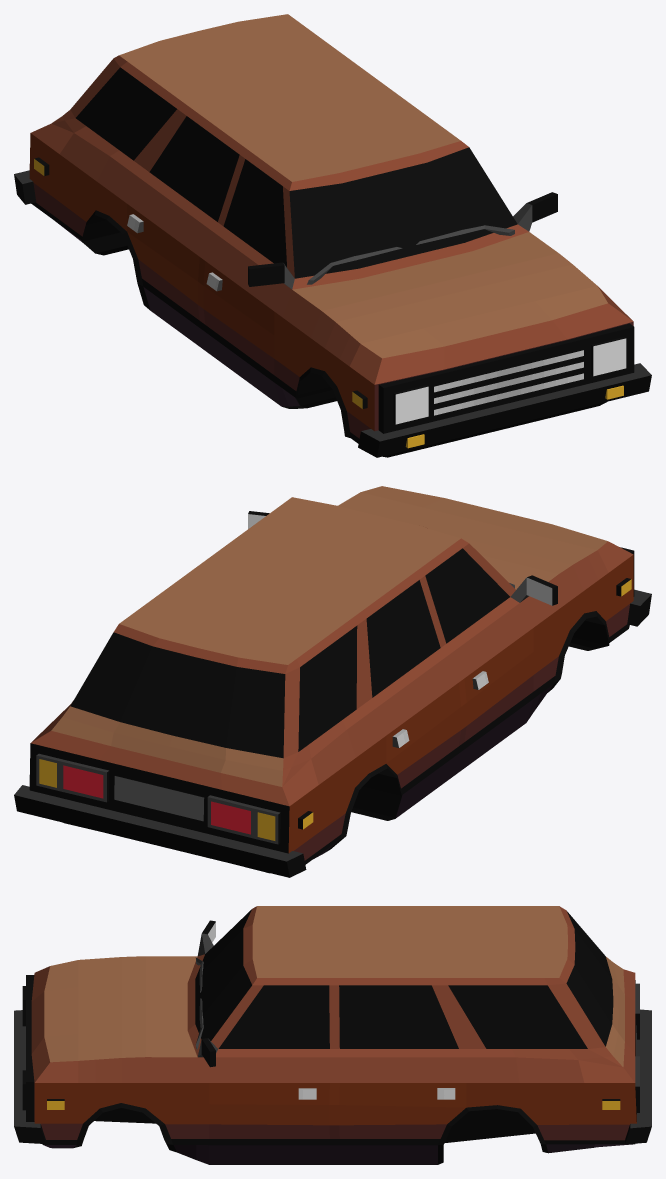
Rendered from StationWagon.005.fbx.
The picture shows the model from 3 angles, top to bottom: view 1: azimuth 30°, elevation 25°; view 2: azimuth 150°, elevation 25°; view 3: azimuth 270°, elevation 25°; orthographic projection. The views are drawn at different scales.
Visible parts, largest first — view 1: StationWagon.005; view 2: StationWagon.005; view 3: StationWagon.005.
Boxes of the visible parts, x1,y1,x2,y2 form: StationWagon.005: (14, 14, 651, 457); StationWagon.005: (14, 486, 651, 877); StationWagon.005: (14, 906, 651, 1164).
Size of the model in its own units: 1.84 by 1.14 by 3.78.
